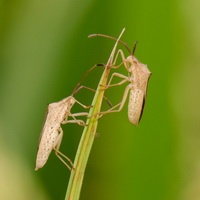insect: (35, 34, 150, 170), (35, 64, 103, 169), (98, 43, 150, 124)
